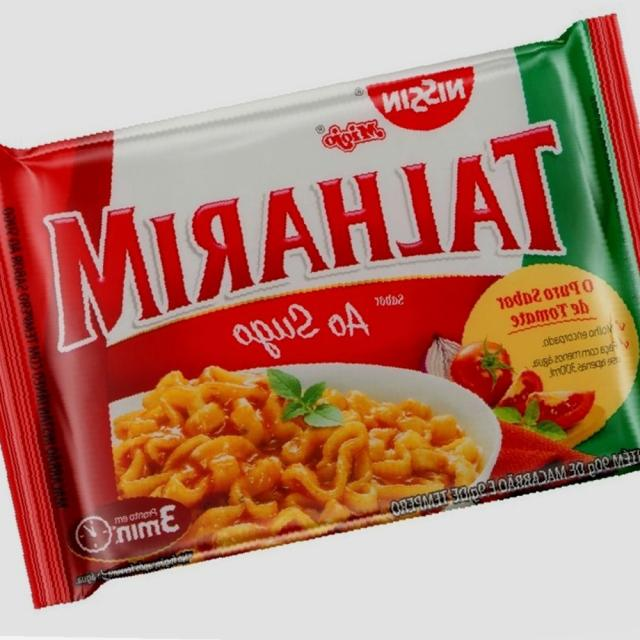pasta package: (0, 17, 639, 606)
